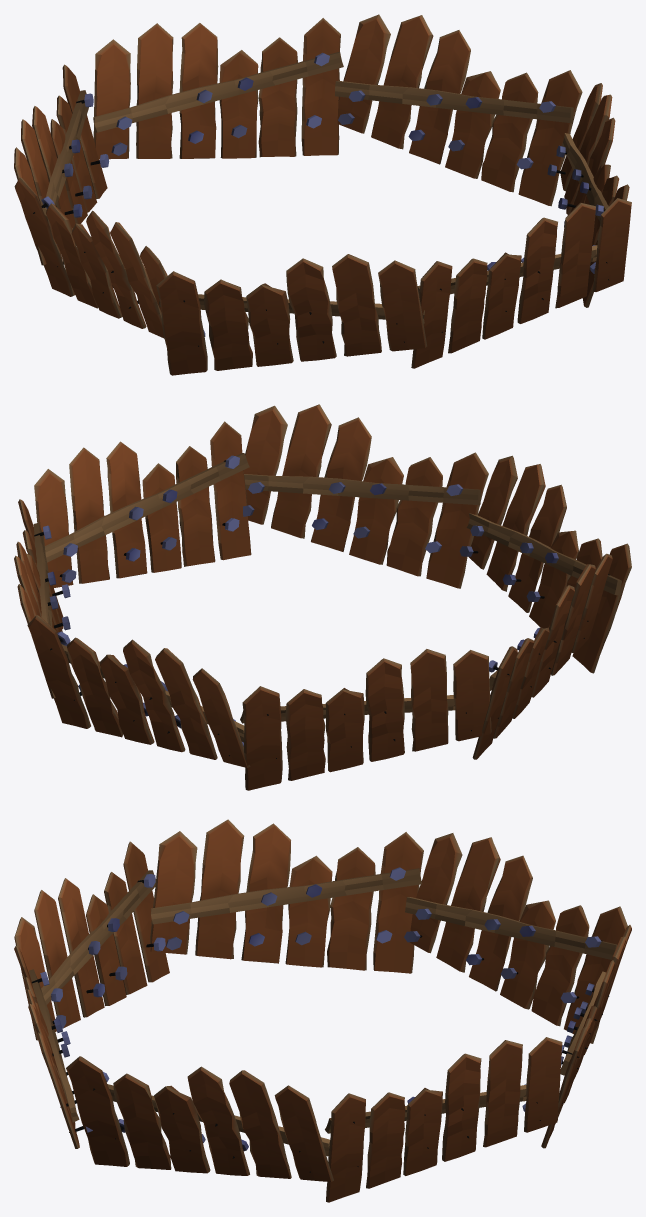
The model's file is забор.fbx.
3 views of the same model, one above another, from view 1: azimuth 30°, elevation 25°; view 2: azimuth 150°, elevation 25°; view 3: azimuth 270°, elevation 25° (orthographic). The views are drawn at different scales.
Visible parts, largest first — view 1: Cube.011, Cube.005, Cube.009, Cube.002, Cube.015, Cube.013, Cube.006, Cube.010, Cube.008, Cube.012, Cylinder.006, Cylinder.004 (+3 smaller); view 2: Cube.002, Cube.013, Cube.006, Cube.011, Cube.005, Cube.015, Cube.001, Cube.003, Cube.009, Cube.007, Cylinder.003, Cylinder.001 (+3 smaller); view 3: Cube.015, Cube.006, Cube.009, Cube.013, Cube.005, Cube.014, Cube.012, Cube.007, Cube.011, Cube.002, Cylinder.008, Cylinder.007 (+4 smaller).
Part boxes in pixels (<box>): Cube.011: <box>93,18,340,159</box>; Cube.005: <box>156,254,426,375</box>; Cube.009: <box>337,14,582,206</box>; Cube.002: <box>411,198,631,368</box>; Cube.015: <box>14,177,167,338</box>; Cube.013: <box>14,64,107,265</box>; Cube.006: <box>560,83,629,307</box>; Cube.010: <box>93,52,343,132</box>; Cube.008: <box>335,80,573,122</box>; Cube.012: <box>44,90,88,209</box>; Cylinder.006: <box>111,52,329,155</box>; Cylinder.004: <box>338,90,555,169</box>; Cube.002: <box>243,404,488,588</box>; Cube.013: <box>242,649,491,790</box>; Cube.006: <box>34,421,251,587</box>; Cube.011: <box>27,615,250,767</box>; Cube.005: <box>468,455,631,673</box>; Cube.015: <box>472,553,612,759</box>; Cube.001: <box>244,474,480,505</box>; Cube.003: <box>45,453,249,562</box>; Cube.009: <box>14,499,63,698</box>; Cube.007: <box>466,513,621,595</box>; Cylinder.003: <box>59,455,239,582</box>; Cylinder.001: <box>243,482,463,553</box>; Cube.015: <box>150,819,423,973</box>; Cube.006: <box>66,1056,333,1181</box>; Cube.009: <box>326,1037,562,1202</box>; Cube.013: <box>410,833,627,1043</box>; Cube.005: <box>14,841,169,1040</box>; Cube.014: <box>151,868,422,924</box>; Cube.012: <box>405,897,617,959</box>; Cube.007: <box>41,870,155,1004</box>; Cube.011: <box>541,925,631,1148</box>; Cube.002: <box>14,946,79,1148</box>; Cylinder.008: <box>166,867,405,950</box>; Cylinder.007: <box>404,908,602,1003</box>.
Size of the model in its own units: 856 by 212 by 843.
